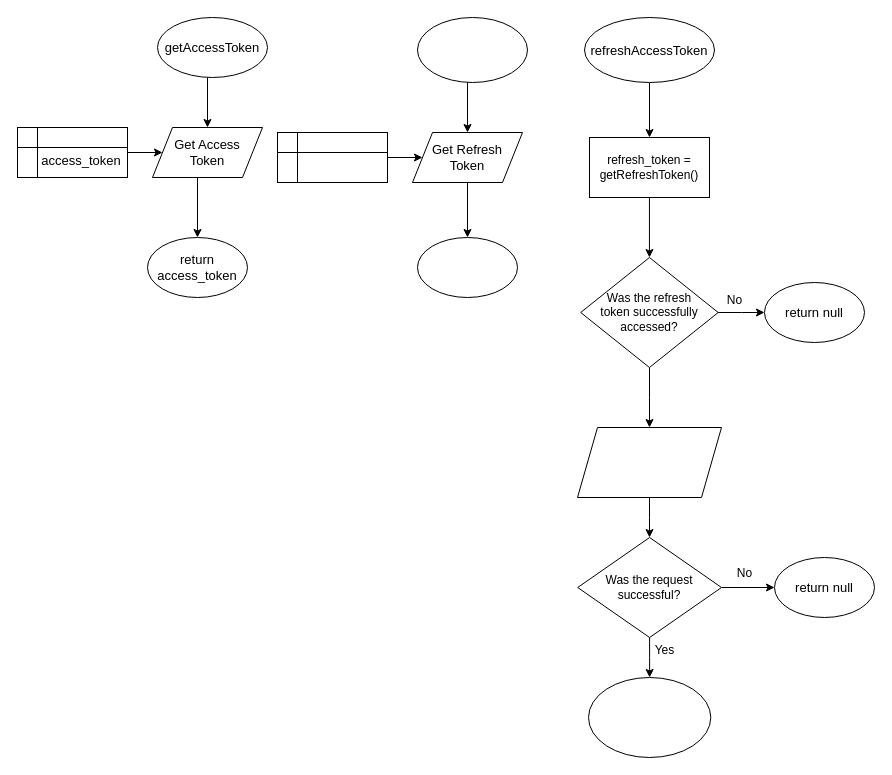
This 892x775 diagram has some shape labels left out. The shapes that lost their labels are listed below. From the top down, each one's centre as x and y in pixels, then its label:
At (x=472, y=49): "getRefreshToken".
At (x=332, y=157): "refresh_token".
At (x=467, y=267): "return refresh_token".
At (x=649, y=462): "Make request to api endpoint that returns a new access token".
At (x=649, y=717): "return new access token that is in the response data".
